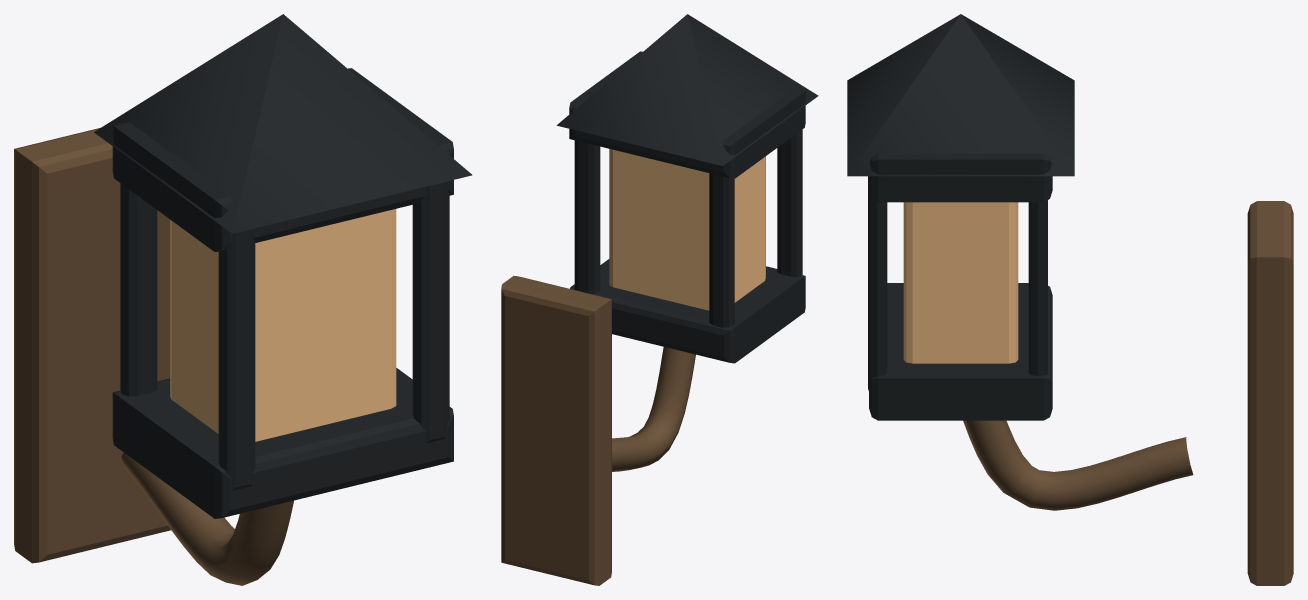
The model's file is wall-lantern.glb.
3 views of the same model, side by side, from view 1: azimuth 30°, elevation 25°; view 2: azimuth 150°, elevation 25°; view 3: azimuth 270°, elevation 25° (orthographic). The views are drawn at different scales.
Parts seen in each view (by area): view 1: wall-lantern; view 2: wall-lantern; view 3: wall-lantern.
Boxes of the visible parts, x1,y1,x2,y2 form: wall-lantern: (14,14,472,585); wall-lantern: (501,14,818,585); wall-lantern: (847,14,1293,585).
Size of the model in its own units: 0.198 by 0.523 by 0.389.
